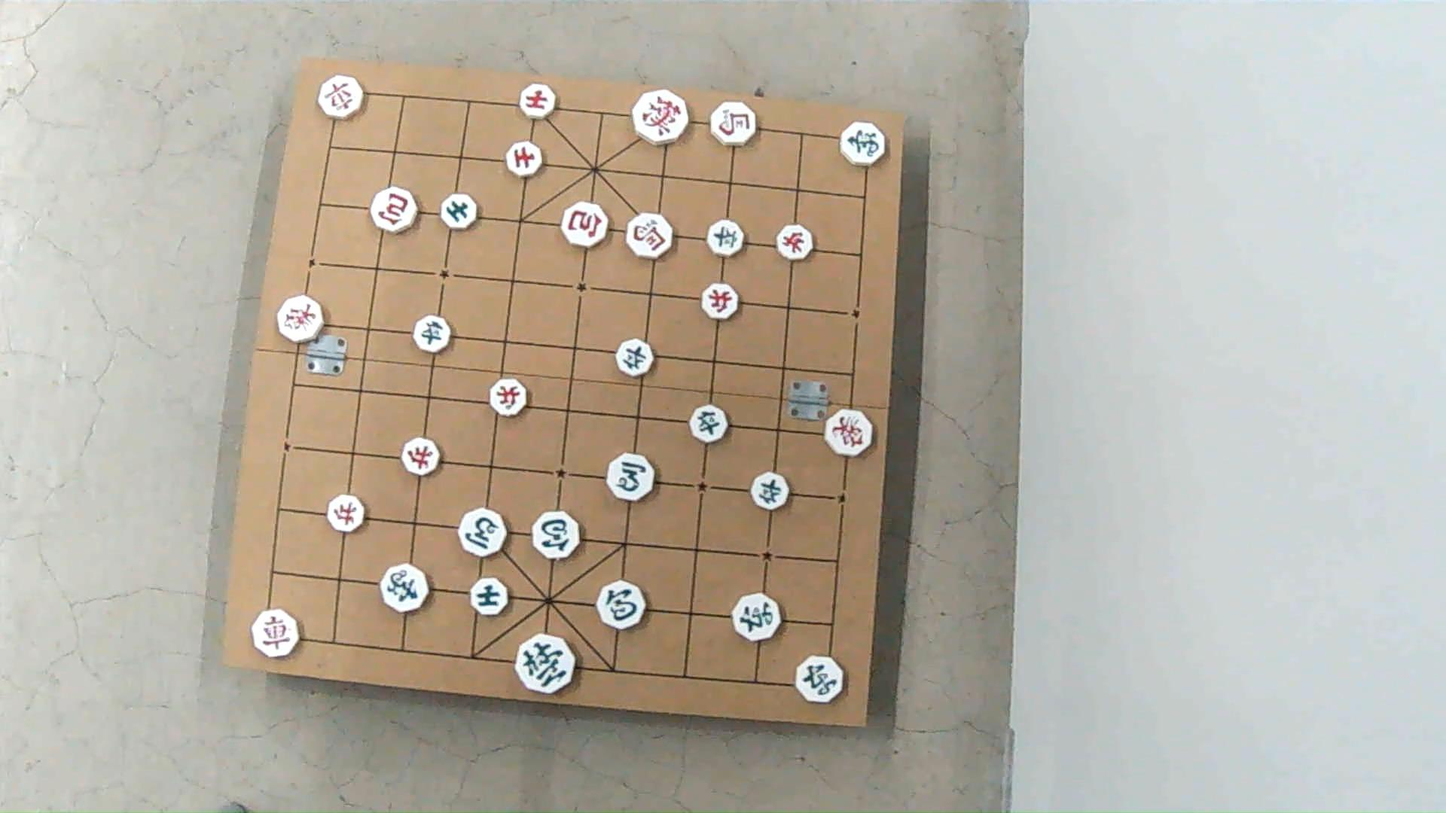cha_green: (731, 593, 780, 641), (793, 656, 842, 703)
cha_red: (250, 611, 297, 658), (318, 75, 364, 118)
jol_green: (688, 406, 728, 443), (752, 470, 790, 508), (617, 340, 655, 377), (413, 315, 450, 353), (709, 219, 746, 255)
jol_red: (402, 438, 441, 477), (327, 495, 365, 532), (490, 380, 526, 418), (701, 283, 739, 318), (779, 225, 815, 260)
ma_green: (459, 510, 507, 558), (608, 453, 655, 501)
ma_red: (625, 215, 672, 260), (709, 104, 755, 148)
po_green: (598, 580, 645, 629), (535, 510, 581, 559)
po_red: (372, 188, 418, 233), (561, 205, 607, 249)
sa_green: (471, 577, 508, 615), (442, 192, 478, 228)
sa_red: (520, 85, 557, 121), (505, 142, 543, 177)
sang_green: (380, 565, 428, 613), (842, 123, 886, 166)
sang_red: (825, 410, 874, 458), (280, 297, 326, 343)
wang_green: (517, 635, 575, 696)
wang_red: (633, 93, 688, 146)
